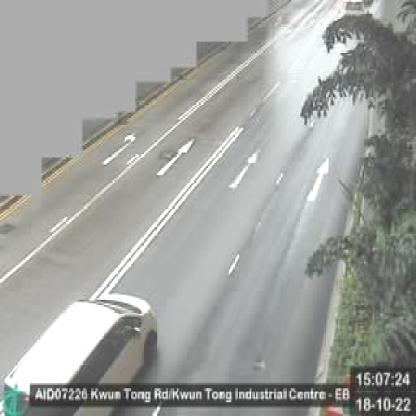Car: (2, 289, 157, 406)
